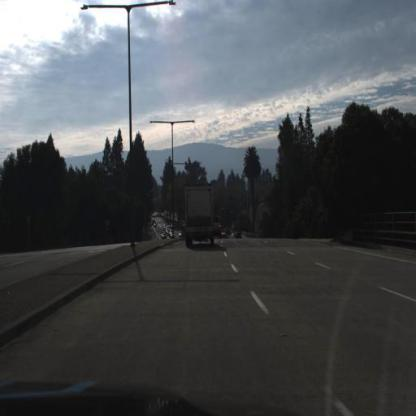car: (216, 215, 223, 238)
truck: (184, 183, 218, 249)
